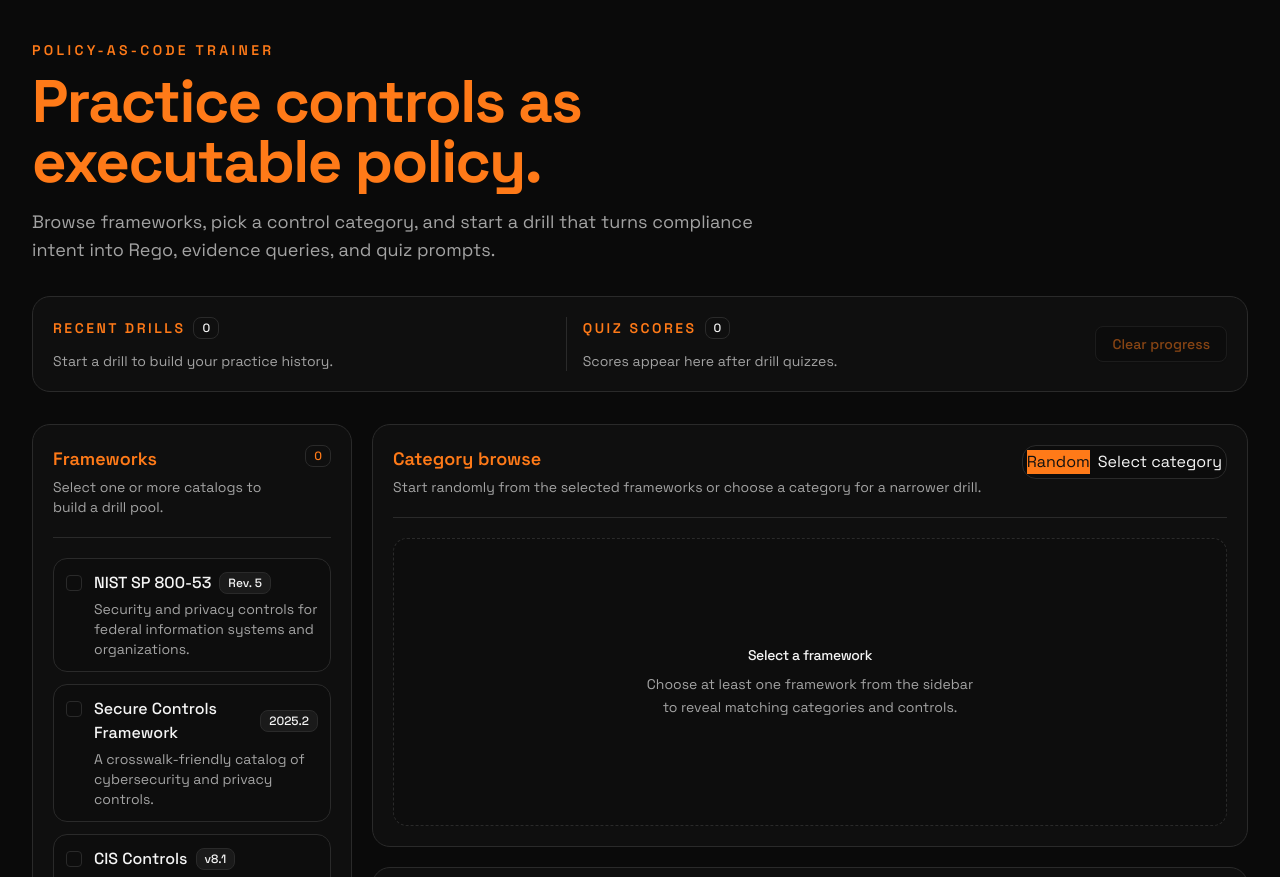
Test: CatalogPage › enables NIST configuration management once a primary control exists
Click the checkbox named "nist". click: x=74, y=583
box: 66,575 -> 82,591
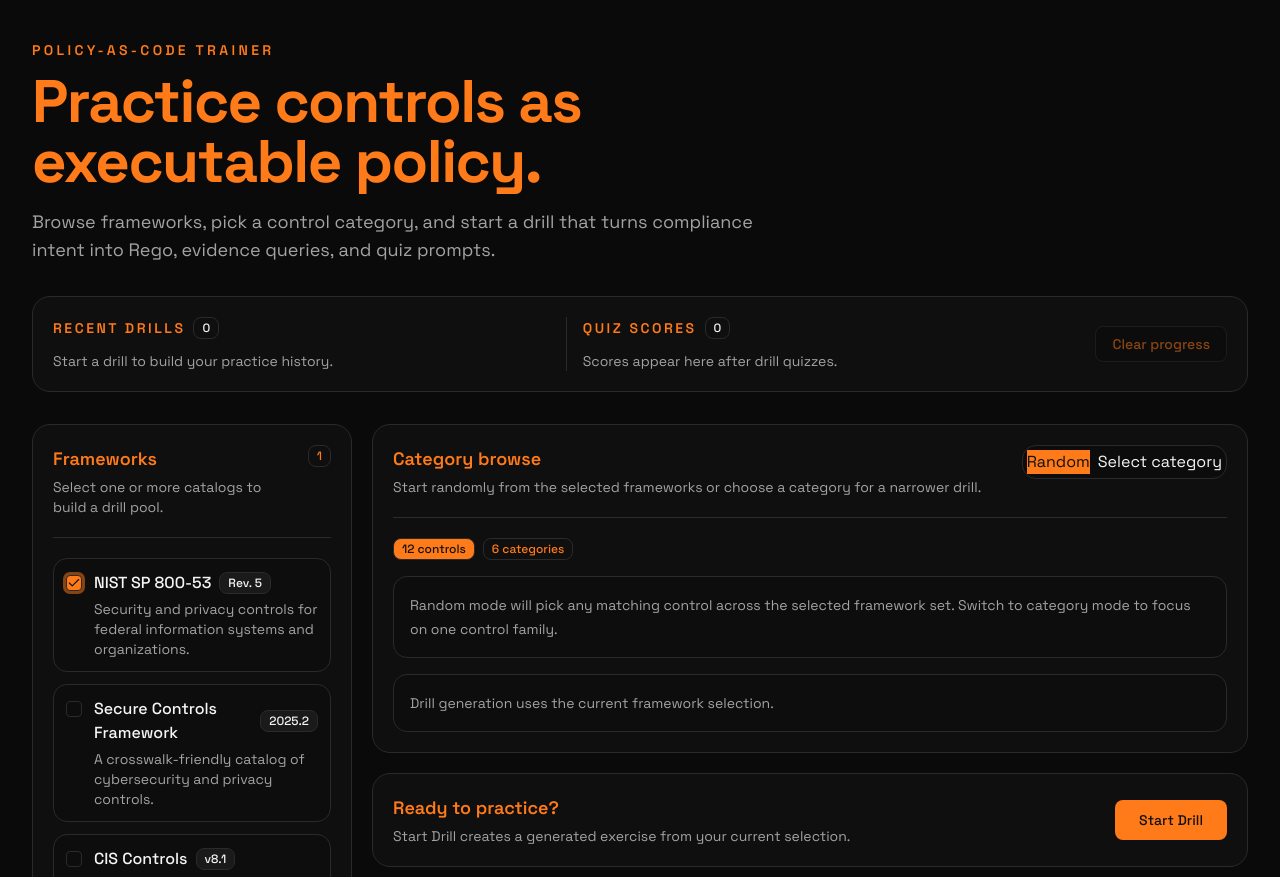
Click the button "Select category". click: x=1160, y=462
box: 1098,450 -> 1222,474
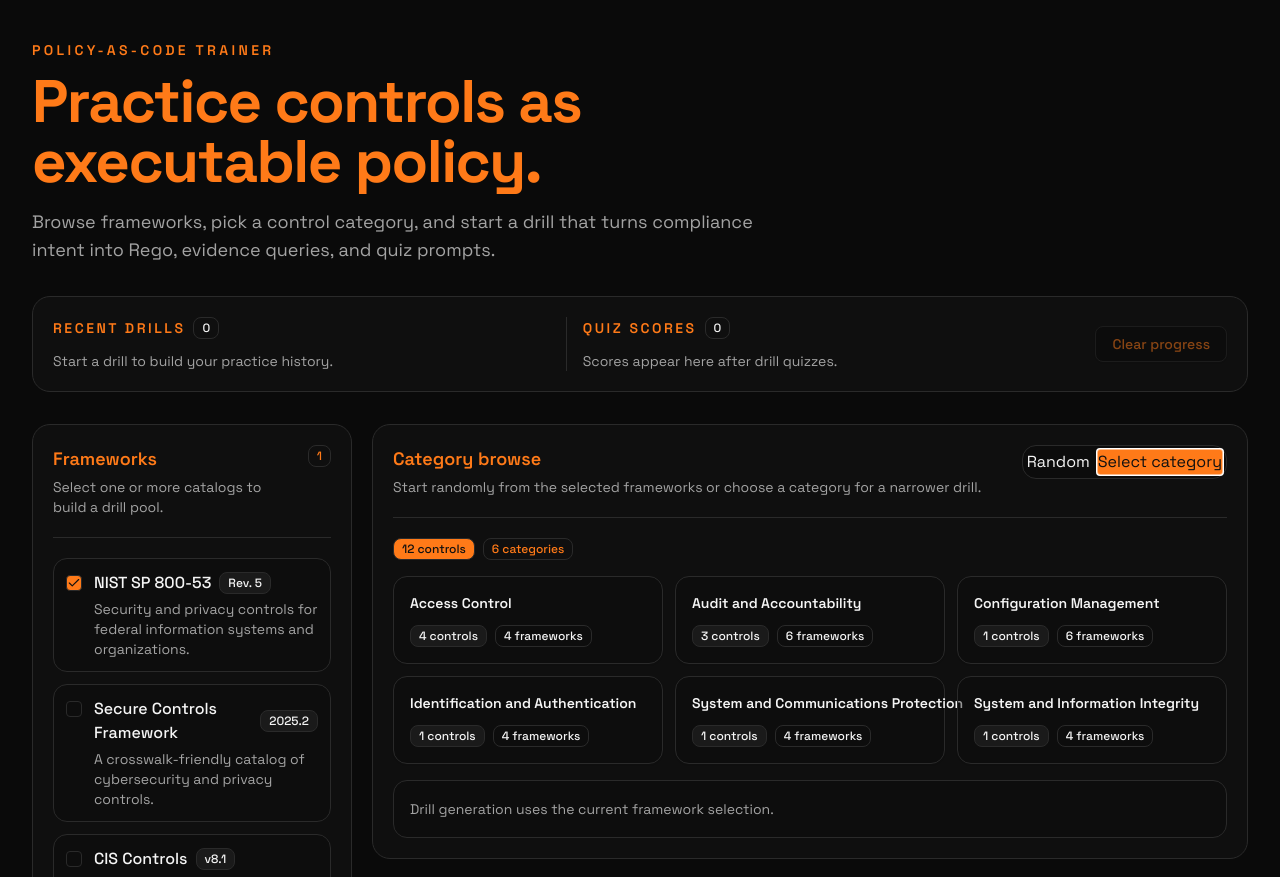
Check: the button "Configuration Management 1 controls 6 frameworks" is enabled, box 957,576 -> 1227,664
